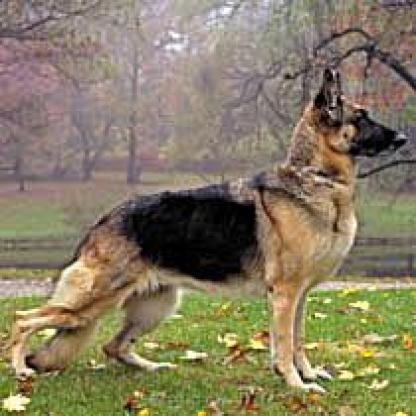German_shepherd: (10, 59, 402, 392)
